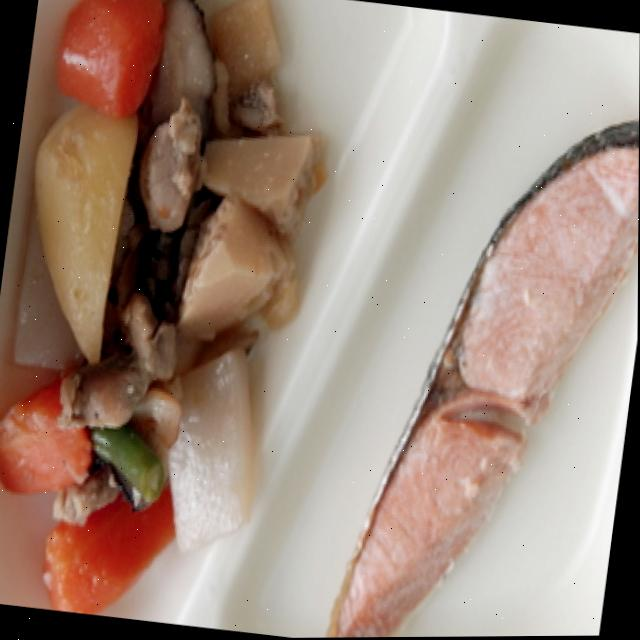熟制海鲜: (320, 3, 640, 638)
